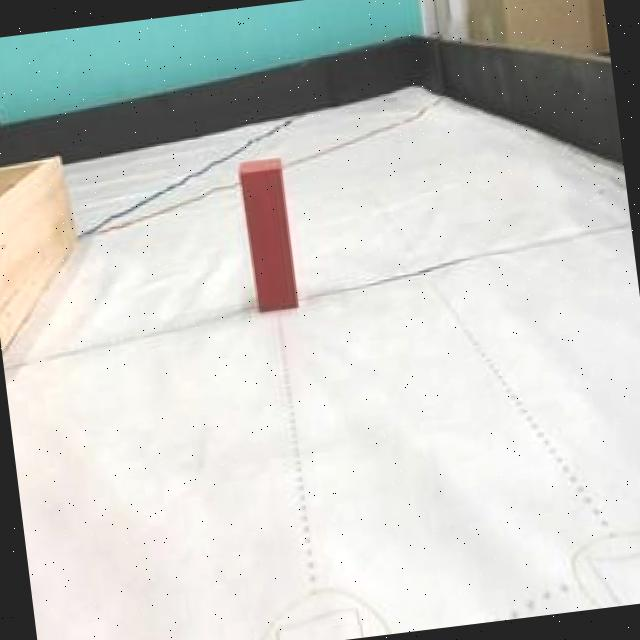redbox: (236, 153, 302, 312)
